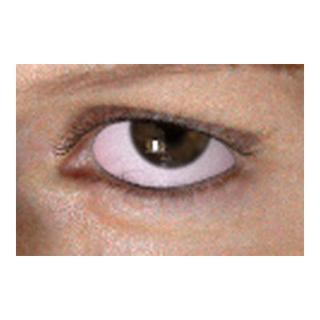pupil: (157, 113, 184, 140)
